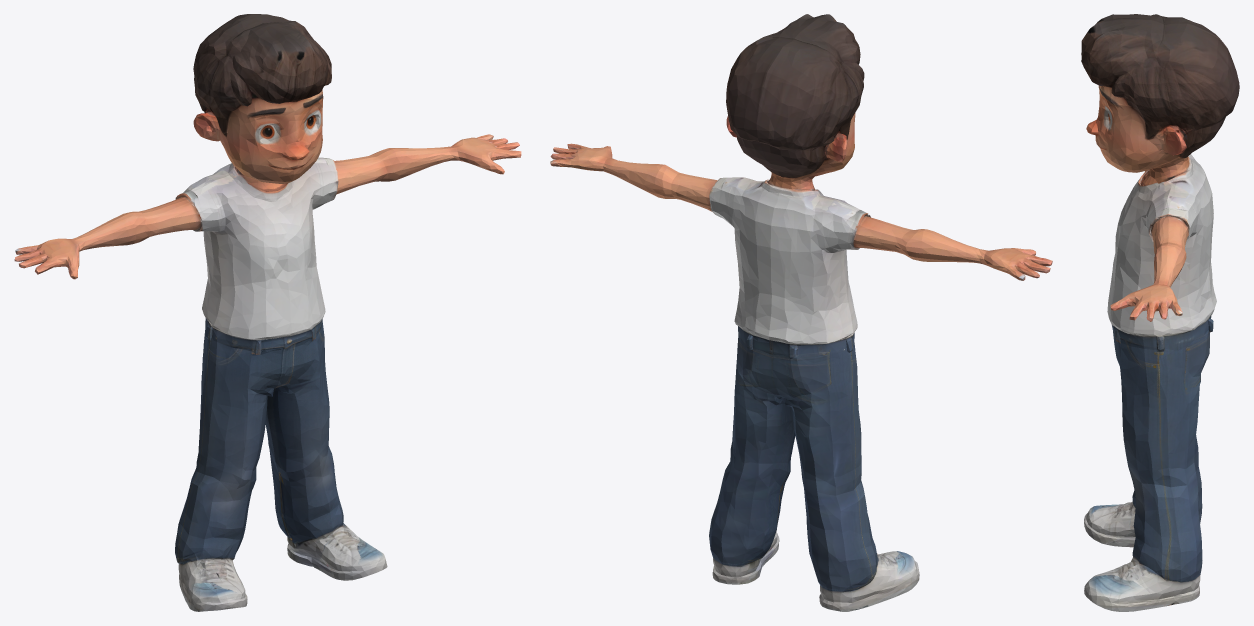
File: A_stylized_3D_cartoon_0610220835_texture.fbx
3 renders of one model, left to right at view 1: azimuth 30°, elevation 25°; view 2: azimuth 150°, elevation 25°; view 3: azimuth 270°, elevation 25°, orthographic.
Visible parts, largest first — view 1: temp; view 2: temp; view 3: temp.
Part boxes in pixels (x1,y1,x2,y2): temp: (14, 14, 521, 611); temp: (550, 14, 1052, 611); temp: (1081, 14, 1239, 611).
Bounding box in the file's own units: 189 × 200 × 52.26.
1 material, 1 textured.
